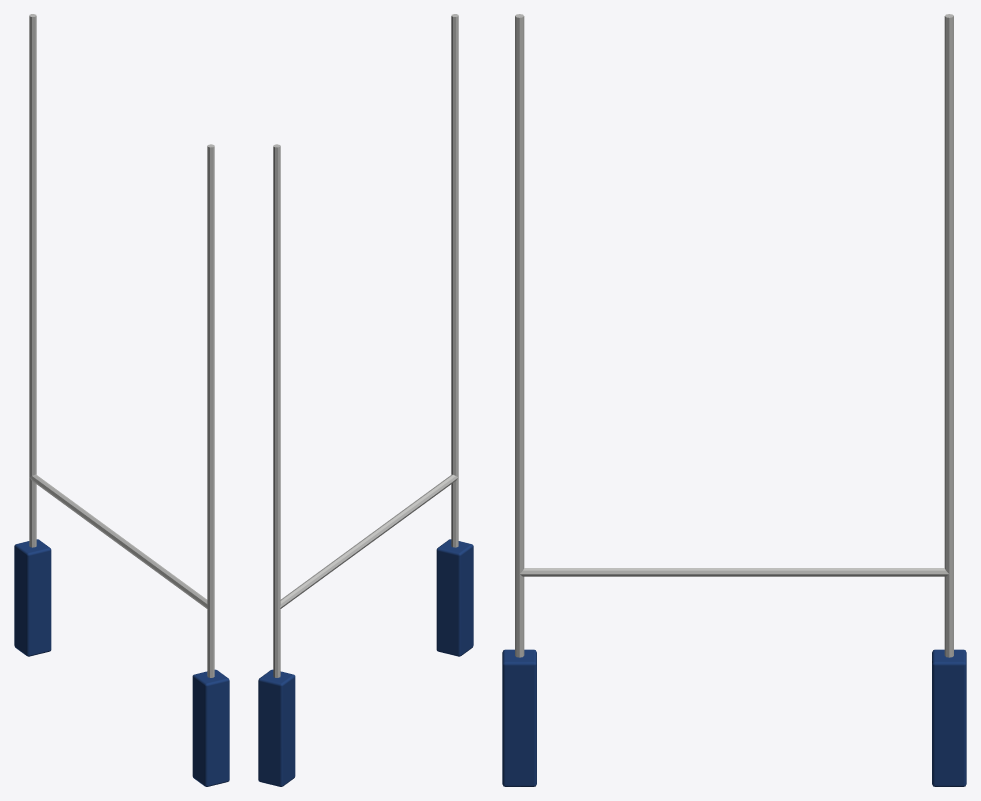
Rendered from SM_Prop_pitch_posts_0.glb.
3 renders of one model, left to right at view 1: azimuth 30°, elevation 25°; view 2: azimuth 150°, elevation 25°; view 3: azimuth 270°, elevation 25°, orthographic. The views are drawn at different scales.
Parts seen in each view (by area): view 1: SM_Prop_pitch_posts_0; view 2: SM_Prop_pitch_posts_0; view 3: SM_Prop_pitch_posts_0.
Boxes of the visible parts, x1,y1,x2,y2 form: SM_Prop_pitch_posts_0: (14,14,229,786); SM_Prop_pitch_posts_0: (258,14,473,786); SM_Prop_pitch_posts_0: (502,14,966,786).
Size of the model in its own units: 0.45 by 11 by 6.05.
